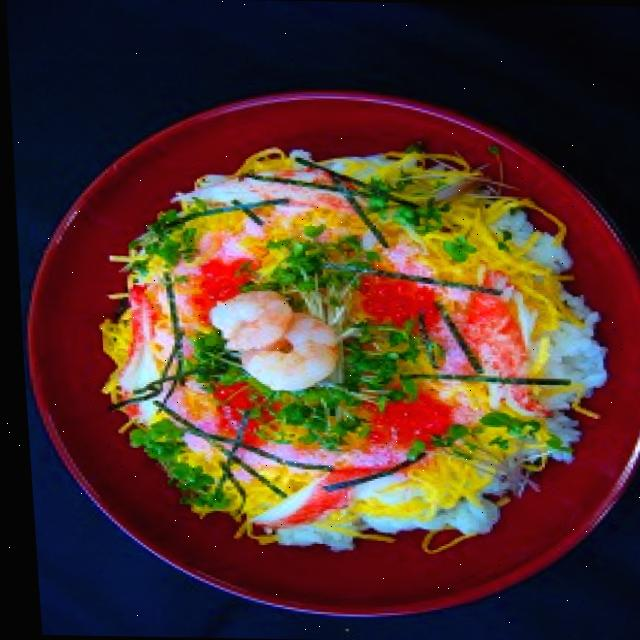寿司卷物: (4, 79, 640, 635)
